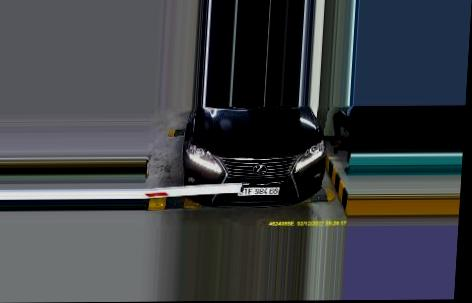License_Plate: (233, 183, 282, 196)
